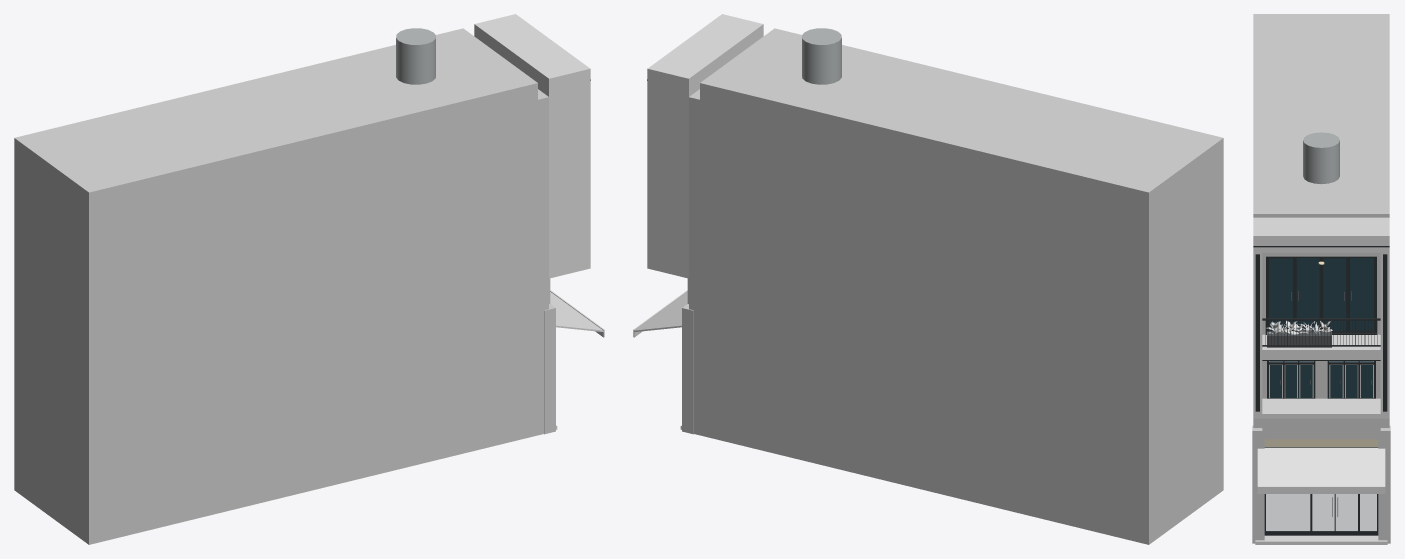
File: OW_Mau_NhaPho_4_5_0_B.fbx
3 views of the same model, side by side, from view 1: azimuth 30°, elevation 25°; view 2: azimuth 150°, elevation 25°; view 3: azimuth 270°, elevation 25° (orthographic). The views are drawn at different scales.
Parts seen in each view (by area): view 1: OW_NhaPho_9001; view 2: OW_NhaPho_9001; view 3: OW_NhaPho_9001, OW_MatTienKinh.
Boxes of the visible parts, x1,y1,x2,y2 form: OW_NhaPho_9001: (14, 14, 604, 544); OW_NhaPho_9001: (633, 14, 1223, 544); OW_NhaPho_9001: (1252, 14, 1390, 544); OW_MatTienKinh: (1264, 439, 1378, 535).
Size of the model in its own units: 17.77 by 12.85 by 4.5.
